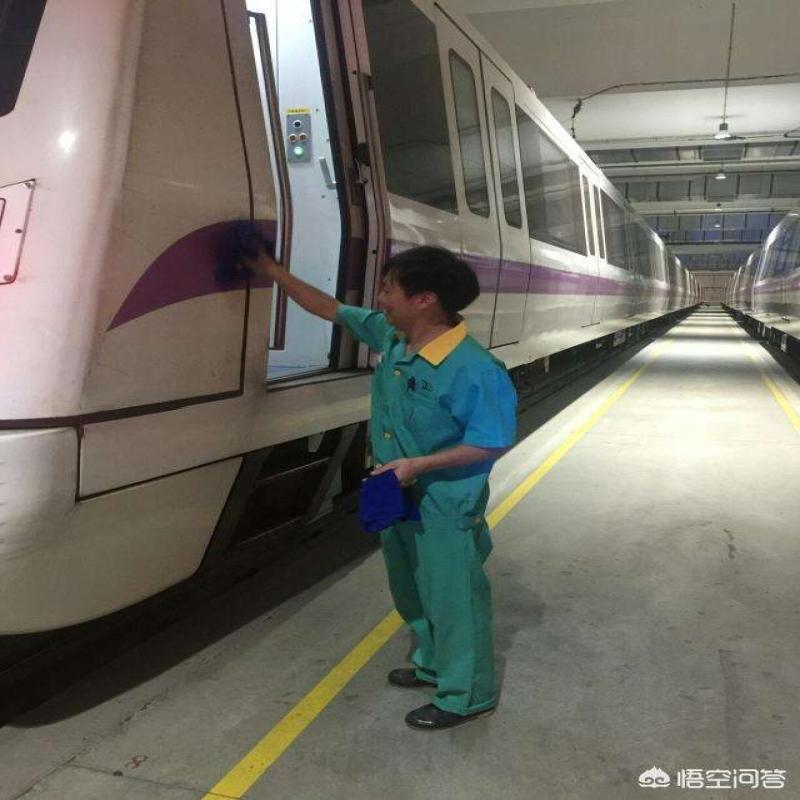train: (38, 16, 673, 504)
